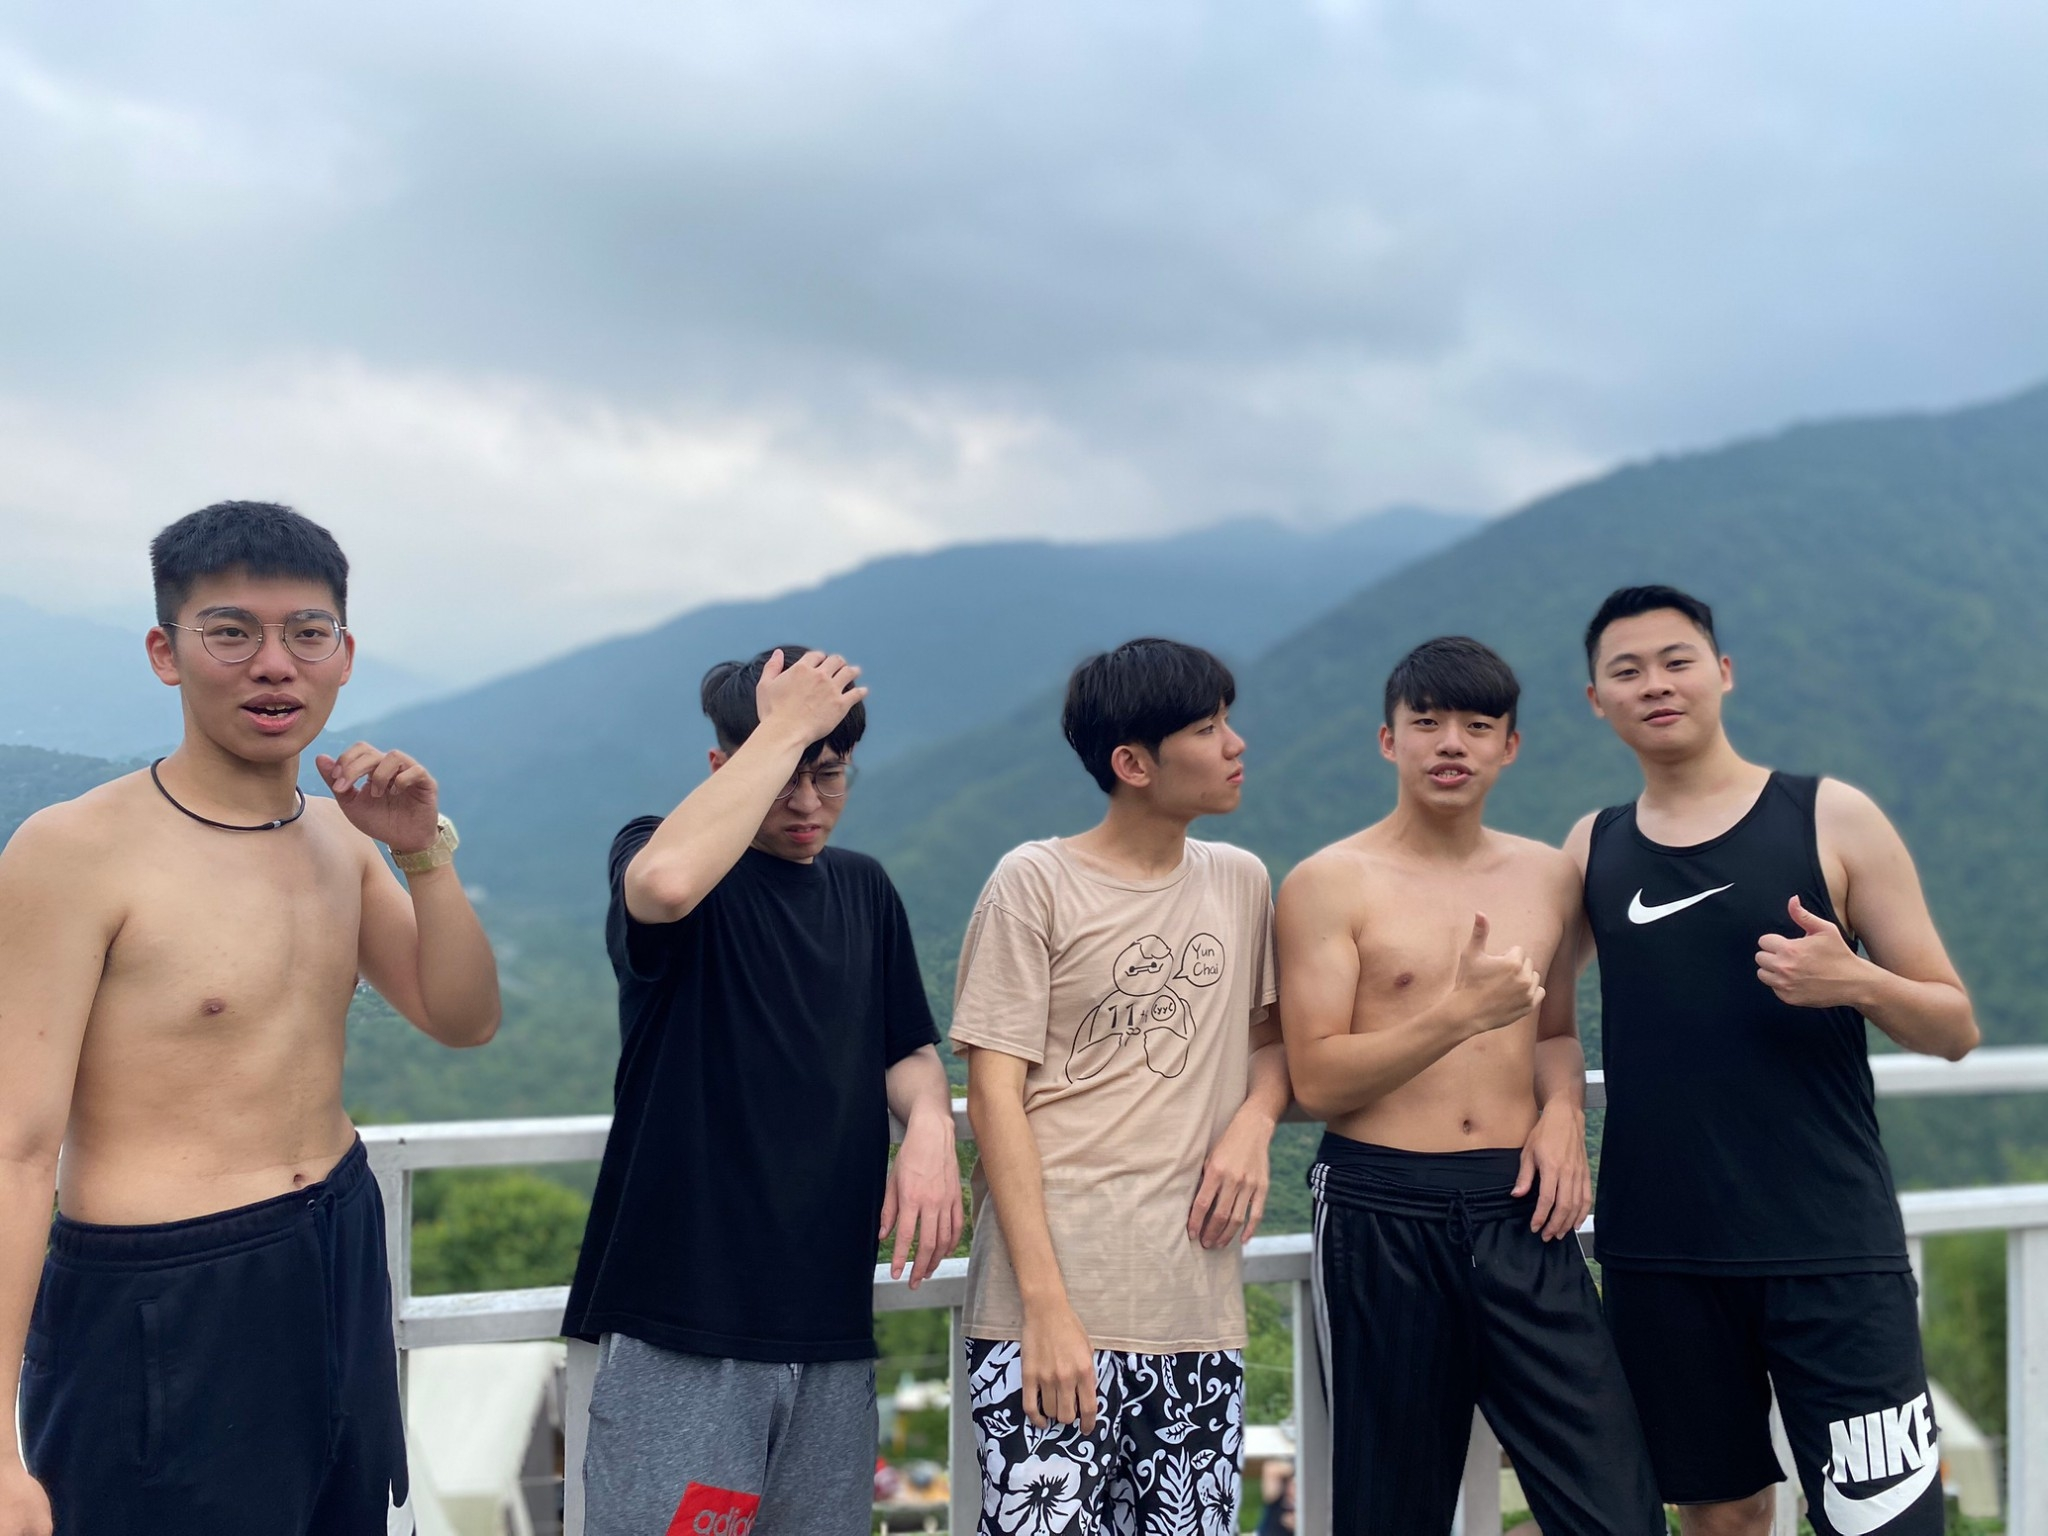people: (46, 508, 416, 1536), (1563, 593, 1960, 1536), (1313, 646, 1646, 1536), (593, 660, 902, 1536), (969, 640, 1254, 1536)
